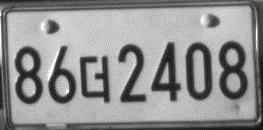0: (184, 41, 214, 101)
2: (116, 42, 148, 103)
4: (149, 40, 183, 103)
6: (46, 44, 76, 103)
8: (217, 40, 249, 100), (13, 46, 44, 105)
더: (78, 54, 111, 104)
